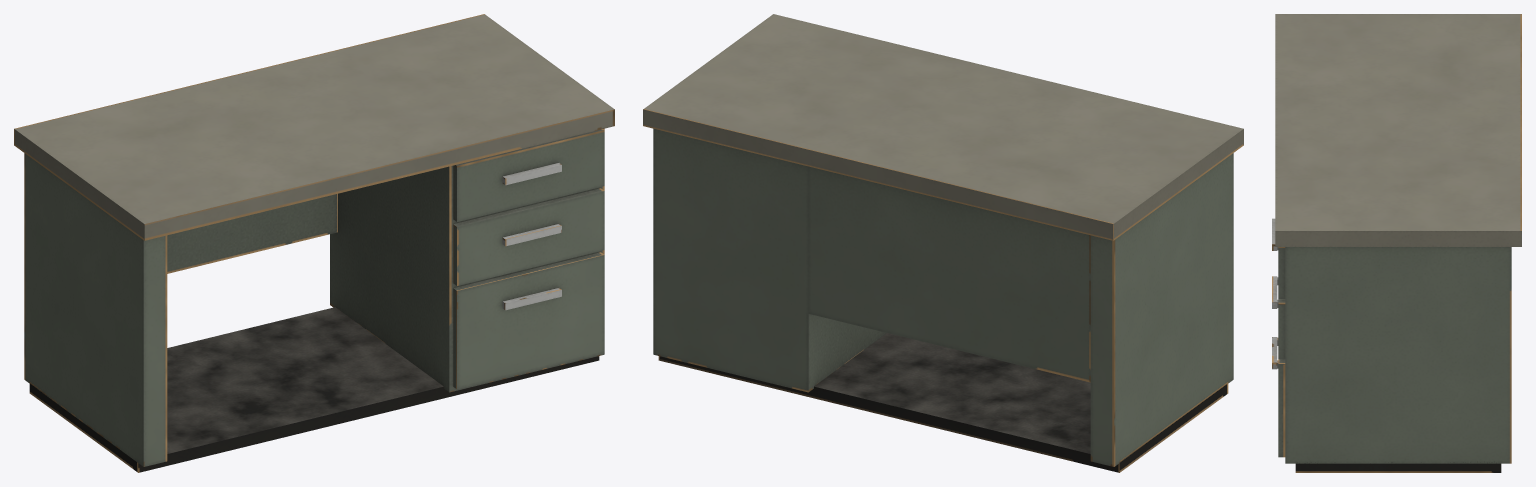
Rendered from H_Desk.fbx.
3 views of the same model, side by side, from view 1: azimuth 30°, elevation 25°; view 2: azimuth 150°, elevation 25°; view 3: azimuth 270°, elevation 25° (orthographic). The views are drawn at different scales.
Parts seen in each view (by area): view 1: H_Desk; view 2: H_Desk; view 3: H_Desk.
Part boxes in pixels (<box>): H_Desk: <box>14,14,614,472</box>; H_Desk: <box>643,14,1243,472</box>; H_Desk: <box>1272,14,1521,472</box>.
Bounding box in the file's own units: 500 × 262 × 243.
1 material, 1 textured.
